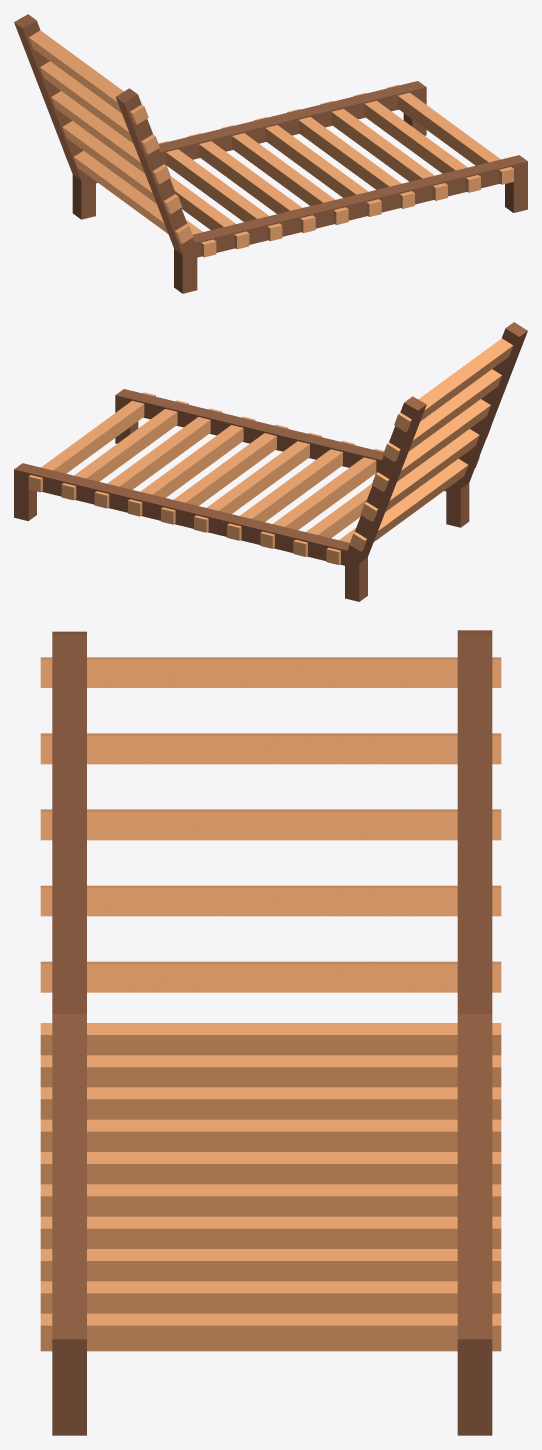
File: şezlong.fbx
The picture shows the model from 3 angles, top to bottom: view 1: azimuth 30°, elevation 25°; view 2: azimuth 150°, elevation 25°; view 3: azimuth 270°, elevation 25°; orthographic projection. The views are drawn at different scales.
Parts seen in each view (by area): view 1: polySurface18, polySurface12; view 2: polySurface18, polySurface12; view 3: polySurface18, polySurface12.
Boxes of the visible parts, bbox=[...] form: polySurface18: bbox=[29, 30, 513, 257]; polySurface12: bbox=[14, 14, 527, 293]; polySurface18: bbox=[28, 338, 513, 564]; polySurface12: bbox=[14, 322, 527, 601]; polySurface18: bbox=[40, 657, 501, 1351]; polySurface12: bbox=[52, 630, 492, 1435].
Bounding box in the file's own units: 164 × 81.53 × 80.89.
